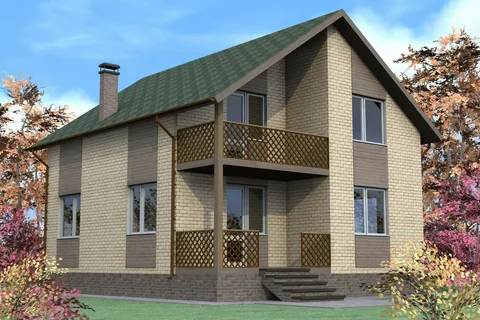private_hause: (50, 57, 423, 281)
